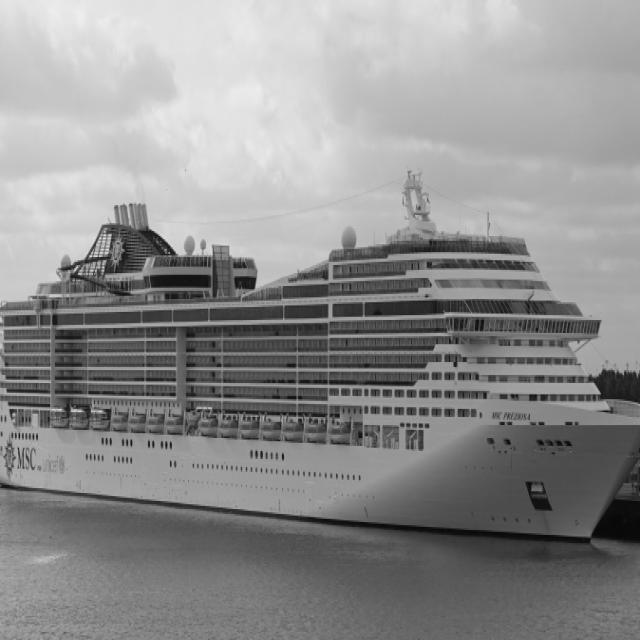cruises: (1, 164, 640, 559)
